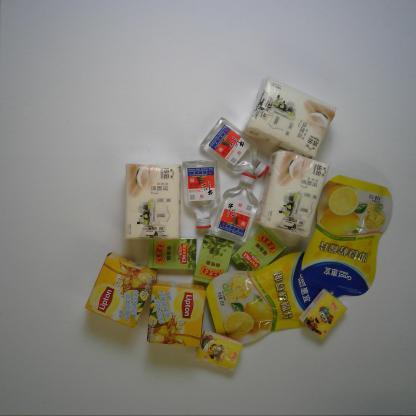Alcohol: (194, 113, 276, 182), (208, 163, 264, 244), (179, 152, 221, 231)
Candy: (231, 225, 287, 277), (192, 233, 235, 286), (147, 238, 197, 270)
Dried Fruit: (298, 172, 396, 302), (206, 250, 329, 346)
Instant Drink: (80, 250, 159, 332), (145, 278, 208, 352)
Tissue: (238, 70, 342, 162), (251, 146, 327, 240), (123, 161, 184, 241), (298, 288, 348, 342), (193, 326, 246, 374)
